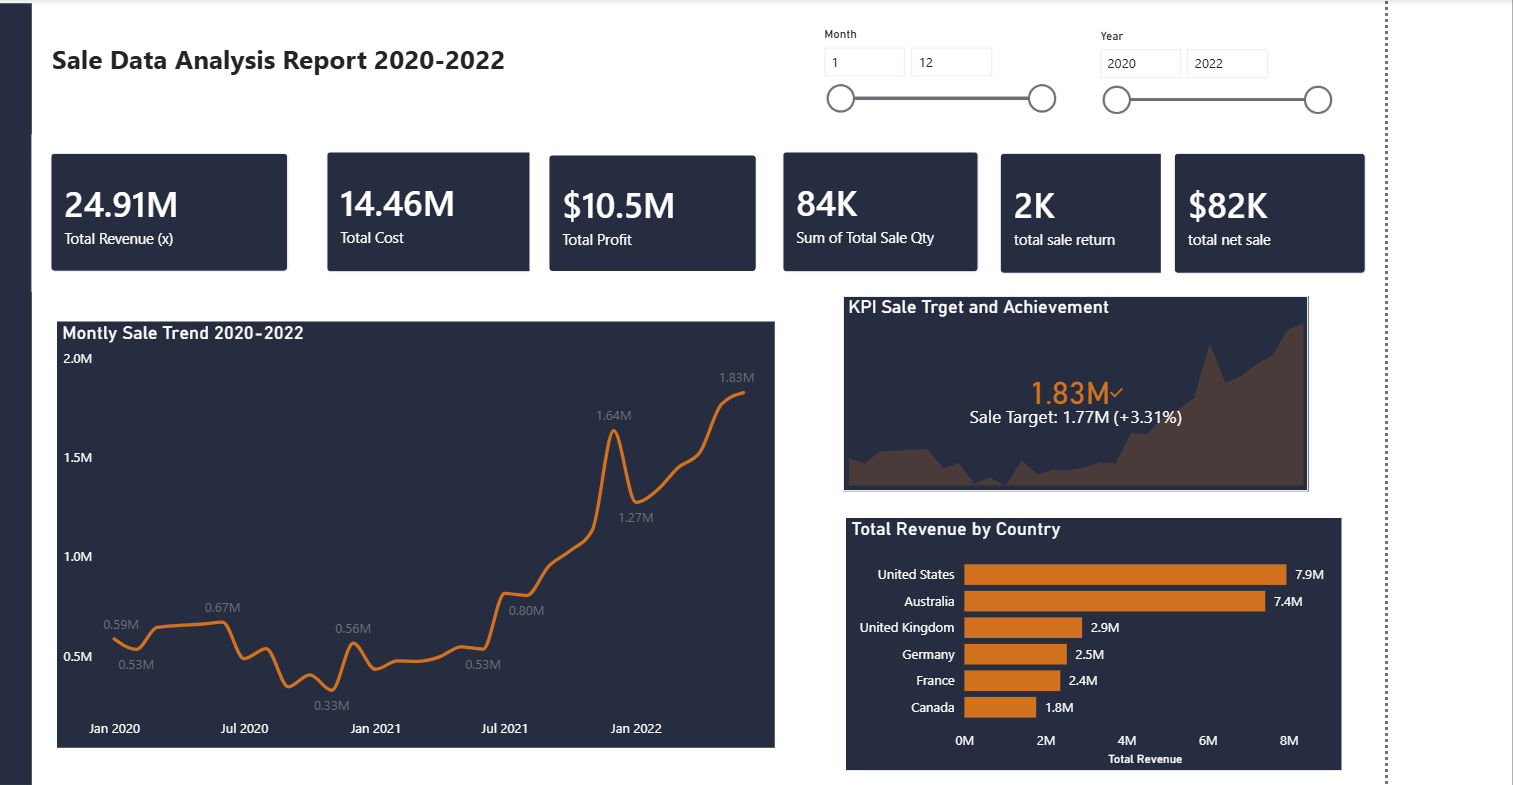

This screenshot's page, from the dashboard's own definition file:
{"tool":"powerbi","page":{"name":"Main Pg","canvas":[1280,720],"ordinal":0},"visuals":[{"type":"slicer","fields":{"Values":["Calendar Lookup (3).Year"]},"box":[1007.3,22.1,233.7,94.7],"z":2000,"group":"g3"},{"type":"cardVisual","fields":{"Data":["Measure Table.Total Cost"]},"box":[295.2,121.6,234.1,145.3],"z":4000,"group":"g1"},{"type":"lineChart","title":"Montly Sale Trend 2020-2022","fields":{"Category":["Calendar Lookup (3).Start of Month"],"Y":["Measure Table.Total Revenue"]},"box":[66.3,295.3,656.9,390],"z":5000},{"type":"cardVisual","fields":{"Data":["Measure Table.Total Profit"]},"box":[498,123.7,225.1,142.4],"z":6000,"group":"g1"},{"type":"barChart","fields":{"Y":["Measure Table.Total Revenue"],"Category":["Territory Lookup.Country"]},"box":[787.9,475.3,453.2,230.5],"z":6000},{"type":"cardVisual","fields":{"Data":["Sum(Sales Data.Total Sale Qty)"]},"box":[712.1,121.6,214.7,145.3],"z":7000,"group":"g2"},{"type":"cardVisual","fields":{"Data":["Measure Table.Total Revenue (x)"]},"box":[42.6,123.2,252.6,143.7],"z":7000,"group":"g2"},{"type":"group","id":"g1","title":"Group 1","box":[295.2,121.6,427.9,145.3],"z":8000,"group":"g2"},{"type":"cardVisual","fields":{"Data":["Returns Data.total sale return"]},"box":[911,123.2,189.5,145.3],"z":9000,"group":"g2"},{"type":"cardVisual","fields":{"Data":["Measure Table.total net sale"]},"box":[1070.5,123.2,210,145.3],"z":10000,"group":"g2"},{"type":"kpi","title":"KPI Sale Trget and Achievement","fields":{"Indicator":["Measure Table.Total Revenue"],"Goal":["Measure Table.Previous Month Revenue"],"TrendLine":["Calendar Lookup (3).Start of Month"]},"box":[784.7,271.6,426.3,178.4],"z":10001},{"type":"slicer","fields":{"Values":["Calendar Lookup (3).Month"]},"box":[754.7,20.5,233.7,97.9],"z":10002,"group":"g3"},{"type":"textbox","box":[56.8,33.2,637.9,47.4],"z":10004},{"type":"shape","box":[0,4.7,42.6,715.3],"z":10005},{"type":"group","id":"g2","title":"Group 2","box":[42.6,121.6,1237.9,146.8],"z":10006},{"type":"group","id":"g3","title":"Group 3","box":[754.7,20.5,486.3,97.9],"z":10007}]}

Visuals, with their boxes on the page's 1280x720 design canvas (x1, y1, x2, y2). These are canvas units, not pixel positions in the 1513x785 screenshot, which may show the page scaled, cropped or inside an application window:
slicer - Calendar Lookup (3).Year: left=1007, top=22, right=1241, bottom=117
cardVisual - Measure Table.Total Cost: left=295, top=122, right=529, bottom=267
"Montly Sale Trend 2020-2022" lineChart: left=66, top=295, right=723, bottom=685
cardVisual - Measure Table.Total Profit: left=498, top=124, right=723, bottom=266
barChart - Measure Table.Total Revenue x Territory Lookup.Country: left=788, top=475, right=1241, bottom=706
cardVisual - Sum(Sales Data.Total Sale Qty): left=712, top=122, right=927, bottom=267
cardVisual - Measure Table.Total Revenue (x): left=43, top=123, right=295, bottom=267
"Group 1" group: left=295, top=122, right=723, bottom=267
cardVisual - Returns Data.total sale return: left=911, top=123, right=1100, bottom=268
cardVisual - Measure Table.total net sale: left=1070, top=123, right=1280, bottom=268
"KPI Sale Trget and Achievement" kpi: left=785, top=272, right=1211, bottom=450
slicer - Calendar Lookup (3).Month: left=755, top=20, right=988, bottom=118
textbox: left=57, top=33, right=695, bottom=81
shape: left=0, top=5, right=43, bottom=720
"Group 2" group: left=43, top=122, right=1280, bottom=268
"Group 3" group: left=755, top=20, right=1241, bottom=118
